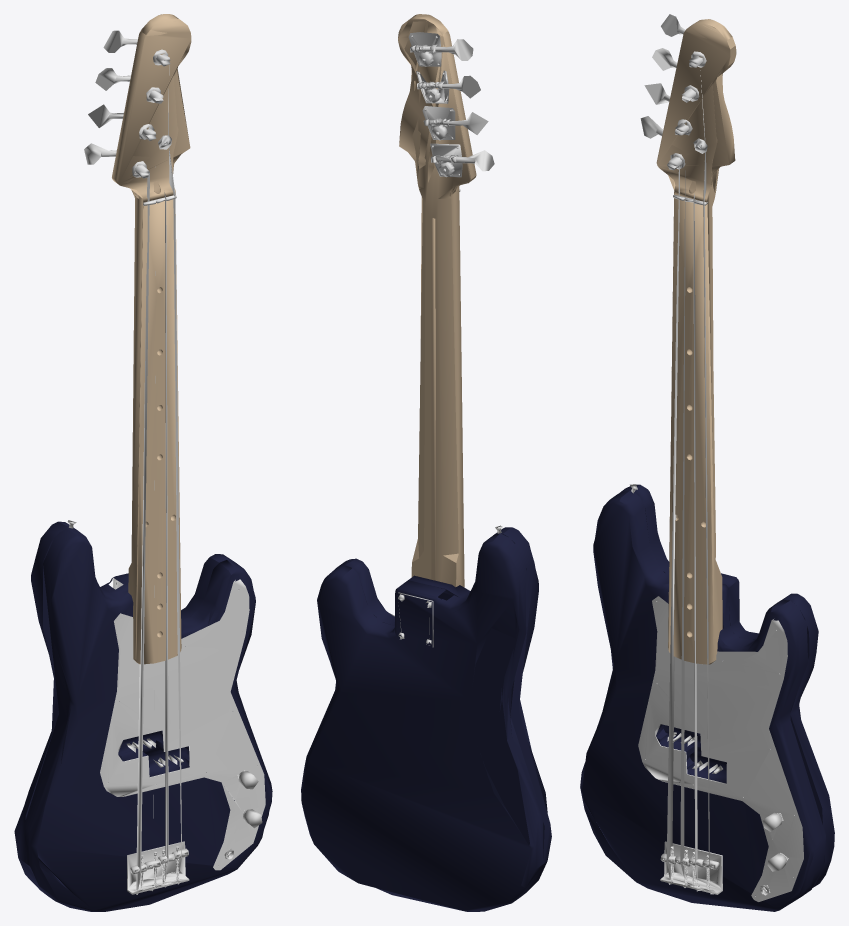
Rendered from bass.glb.
The picture shows the model from 3 angles, left to right: view 1: azimuth 30°, elevation 25°; view 2: azimuth 150°, elevation 25°; view 3: azimuth 330°, elevation 25°; orthographic projection.
Parts seen in each view (by area): view 1: bass; view 2: bass; view 3: bass.
Boxes of the visible parts, bbox=[...] form: bass: bbox=[14, 14, 272, 911]; bass: bbox=[301, 14, 551, 911]; bass: bbox=[580, 14, 834, 911].
Size of the model in its own units: 2.4 by 8.46 by 0.6306.
